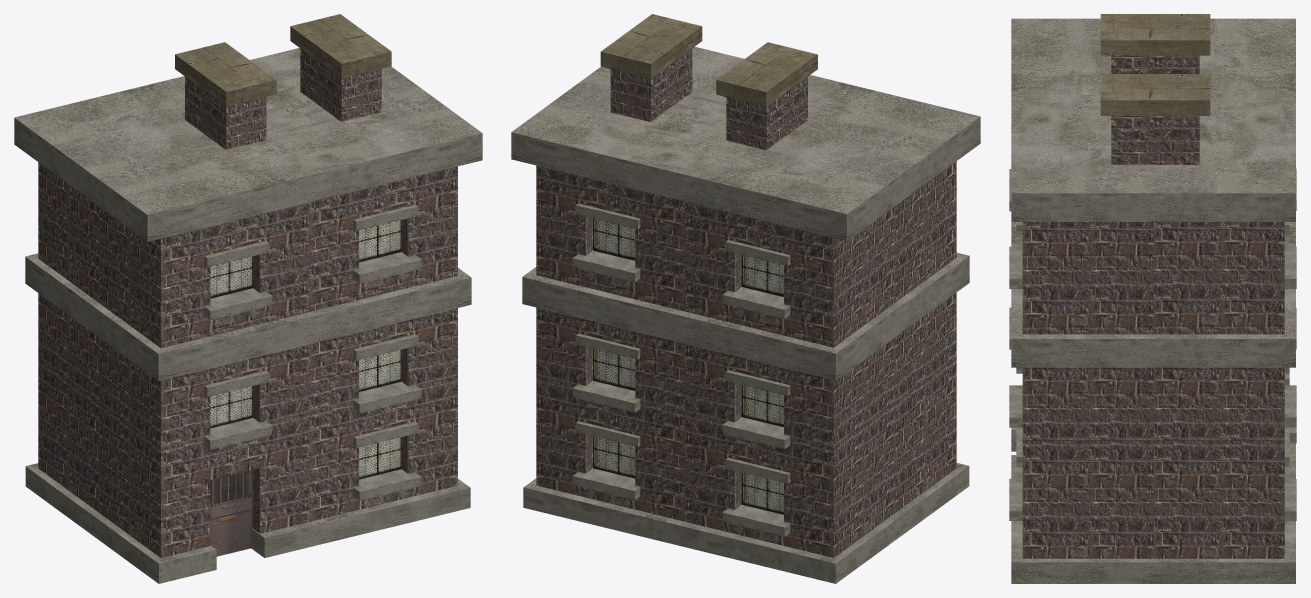
Rendered from Building01A2.fbx.
3 renders of one model, left to right at view 1: azimuth 30°, elevation 25°; view 2: azimuth 150°, elevation 25°; view 3: azimuth 270°, elevation 25°, orthographic. The views are drawn at different scales.
Parts seen in each view (by area): view 1: UB; view 2: UB; view 3: UB.
Boxes of the visible parts, x1=… form: UB: x1=14, y1=14, x2=482, y2=583; UB: x1=511, y1=14, x2=980, y2=583; UB: x1=1009, y1=14, x2=1296, y2=583.
Bounding box in the file's own units: 5.58 × 6.92 × 3.87.
